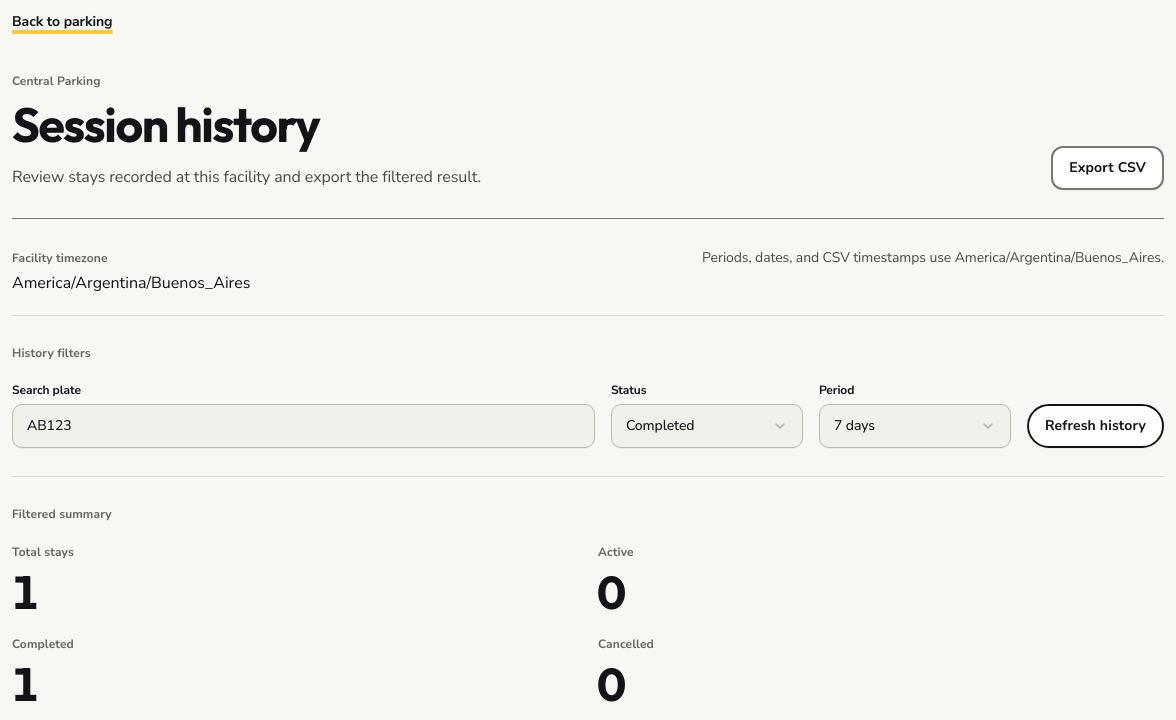
Scenario: parking session history pagination › returns to the first page when the status filter changes
The width and height of the screenshot is (1176, 720).
What coordinates should you click on to do the following:
click the dropdown named "Status"
I would click on:
 (707, 426)
Its box is [611,404,803,448].
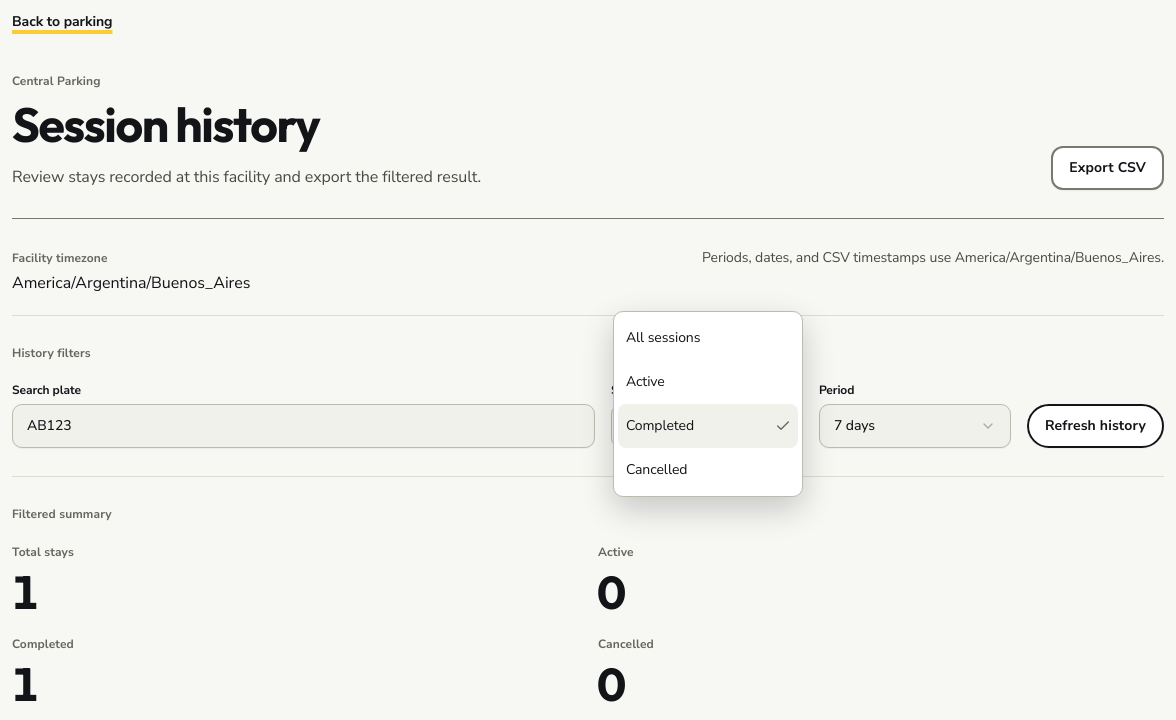
What coordinates should you click on to do the following:
click the option "Cancelled"
I would click on:
 (657, 469)
Its box is [626,460,687,479].
(page scrolled)
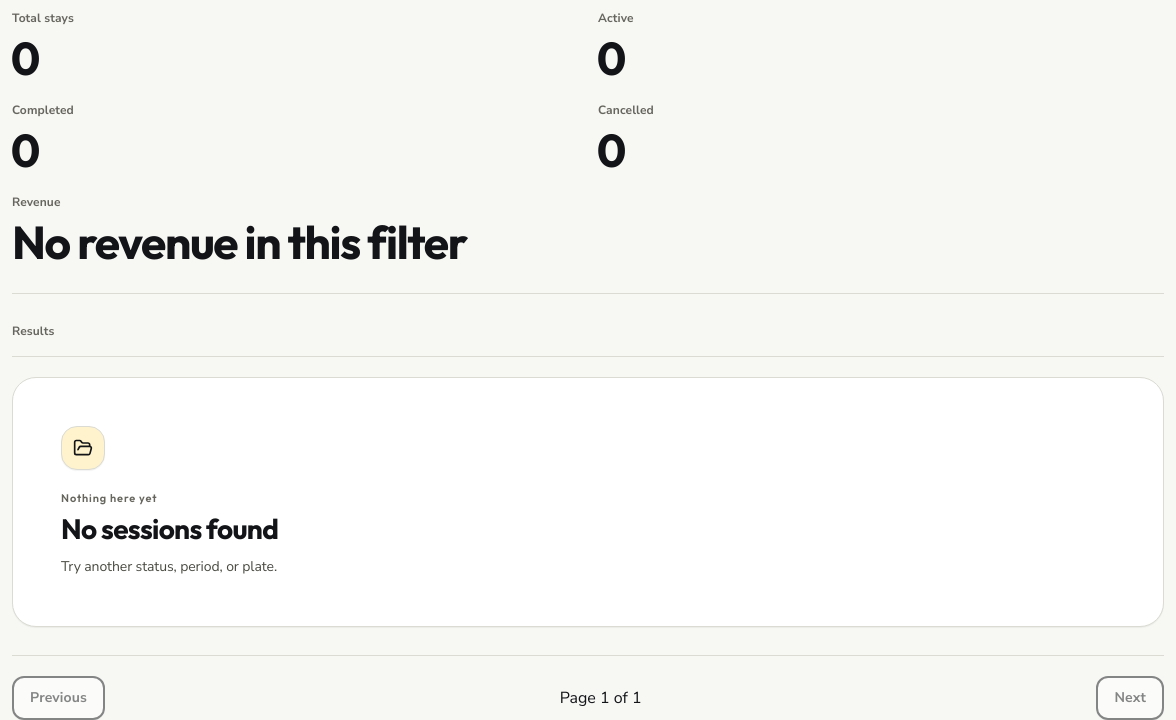
Check: the heading "No sessions found" is shown, box [61,514,278,544]
